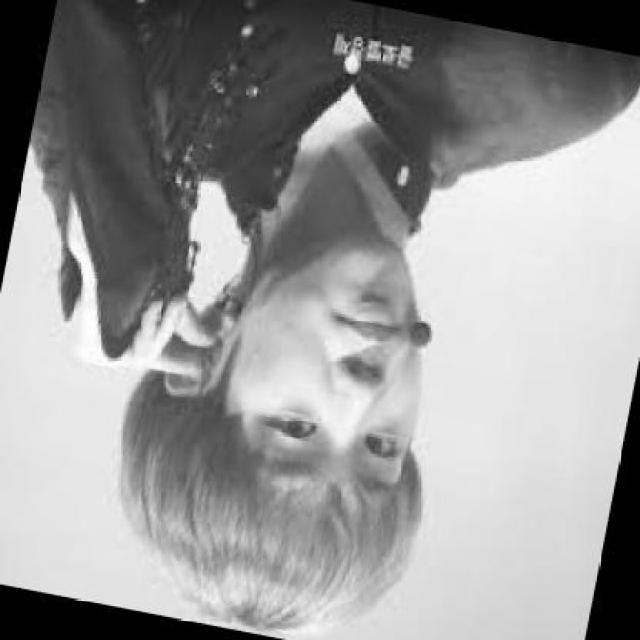earphone: (190, 316, 248, 385)
